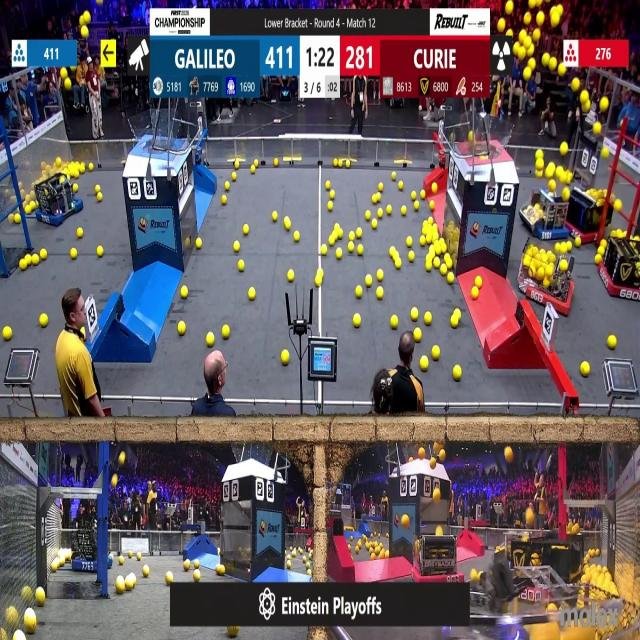ball_airborne: (551, 8, 561, 26), (600, 98, 609, 113), (525, 511, 534, 526), (80, 11, 90, 24), (504, 448, 512, 464), (498, 19, 506, 33), (536, 11, 544, 24), (572, 78, 580, 91), (432, 489, 440, 502), (505, 1, 512, 15), (594, 124, 602, 136), (524, 68, 532, 80), (80, 26, 88, 38), (514, 43, 522, 55), (528, 59, 536, 71), (550, 59, 558, 71), (579, 92, 587, 104), (561, 142, 568, 155), (527, 46, 535, 57), (532, 30, 540, 41), (601, 147, 609, 158), (584, 101, 592, 112), (111, 476, 118, 488), (558, 64, 565, 76), (541, 55, 548, 67), (65, 78, 72, 89), (118, 453, 124, 465), (441, 450, 447, 462), (467, 133, 474, 143), (520, 31, 526, 42), (62, 68, 68, 79), (529, 0, 536, 9), (525, 13, 531, 23), (419, 449, 425, 459), (430, 458, 436, 468), (506, 30, 512, 37)
ball_ground: (25, 612, 38, 635), (36, 589, 45, 607), (126, 575, 137, 589), (229, 626, 240, 638), (454, 364, 462, 380), (119, 578, 127, 594), (607, 336, 616, 350), (281, 350, 289, 365), (431, 346, 439, 361), (424, 312, 432, 326), (582, 361, 590, 375), (3, 326, 11, 340), (421, 357, 429, 371), (221, 325, 229, 338), (353, 314, 361, 327), (414, 328, 422, 341), (569, 524, 578, 535), (178, 321, 185, 335), (207, 334, 214, 348), (401, 515, 408, 529), (390, 316, 398, 328), (166, 571, 174, 583), (180, 286, 188, 298), (248, 287, 255, 300), (18, 261, 26, 272), (432, 257, 440, 268), (412, 309, 419, 321), (40, 314, 47, 326), (377, 287, 384, 299), (70, 248, 77, 260), (448, 273, 455, 285), (284, 218, 291, 230), (217, 564, 225, 574), (348, 232, 356, 242), (535, 161, 543, 171), (243, 223, 250, 234), (452, 316, 459, 327), (364, 276, 371, 287), (394, 260, 401, 271), (193, 569, 200, 580), (287, 271, 293, 283), (337, 248, 343, 260), (420, 237, 427, 247), (183, 560, 190, 570), (32, 254, 39, 264), (76, 229, 83, 239), (441, 266, 448, 276), (447, 261, 454, 271), (26, 255, 33, 265), (98, 246, 104, 257), (316, 276, 322, 287), (356, 286, 362, 297), (194, 239, 200, 250), (378, 271, 384, 282), (40, 249, 46, 260), (293, 232, 299, 243), (435, 245, 441, 256), (442, 243, 448, 254), (616, 201, 622, 212), (561, 242, 567, 253), (363, 211, 370, 220), (238, 262, 244, 272), (235, 242, 241, 252), (143, 566, 149, 576), (471, 288, 477, 298), (321, 245, 327, 255), (474, 278, 480, 288), (370, 218, 376, 228), (596, 254, 602, 264), (426, 263, 432, 273), (356, 230, 362, 240), (410, 252, 416, 262), (357, 245, 363, 255), (378, 209, 384, 219), (414, 202, 420, 212), (431, 183, 437, 193), (566, 242, 572, 252), (348, 243, 354, 253), (390, 248, 396, 258), (371, 192, 377, 202), (51, 562, 57, 572), (426, 236, 432, 246), (618, 231, 625, 239), (408, 237, 413, 248), (574, 239, 580, 248), (193, 560, 199, 569), (412, 190, 418, 199), (400, 207, 406, 216), (13, 214, 19, 223), (338, 231, 344, 240), (428, 202, 434, 211), (26, 206, 32, 215), (273, 212, 278, 222), (327, 202, 332, 212), (398, 180, 403, 190), (376, 192, 381, 202), (420, 190, 426, 198), (454, 310, 460, 318), (221, 197, 227, 205), (598, 247, 604, 255), (331, 160, 337, 168), (422, 225, 428, 233), (536, 171, 542, 179), (426, 254, 432, 262), (600, 240, 606, 248), (387, 206, 392, 215), (328, 238, 333, 247), (224, 181, 229, 190), (79, 165, 84, 174), (250, 167, 256, 174), (286, 562, 292, 569), (379, 183, 384, 191), (328, 183, 332, 193), (118, 557, 123, 565), (96, 184, 101, 192), (274, 160, 279, 168), (235, 162, 240, 170), (73, 184, 78, 192), (346, 162, 351, 170), (428, 217, 433, 225), (391, 172, 396, 180), (556, 244, 561, 252), (307, 562, 312, 569), (90, 165, 95, 172), (336, 223, 341, 230), (308, 568, 312, 576), (98, 192, 102, 200), (233, 173, 237, 181), (370, 554, 374, 562), (185, 240, 189, 248), (254, 162, 259, 168), (611, 232, 616, 238), (138, 555, 142, 561), (130, 553, 134, 559), (217, 546, 220, 554)
goal: (459, 116, 515, 159), (128, 116, 187, 152)
robot_blue: (519, 186, 570, 244), (33, 177, 79, 228), (69, 528, 104, 572)
robot_red: (517, 244, 573, 312), (414, 526, 459, 585), (601, 236, 640, 302), (569, 188, 613, 244)
